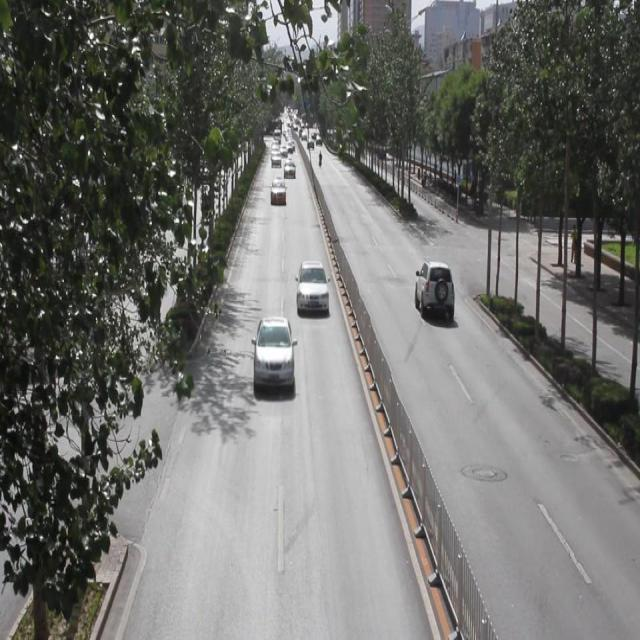car: (252, 315, 292, 391), (414, 260, 454, 321), (295, 261, 328, 316), (270, 178, 285, 206)
